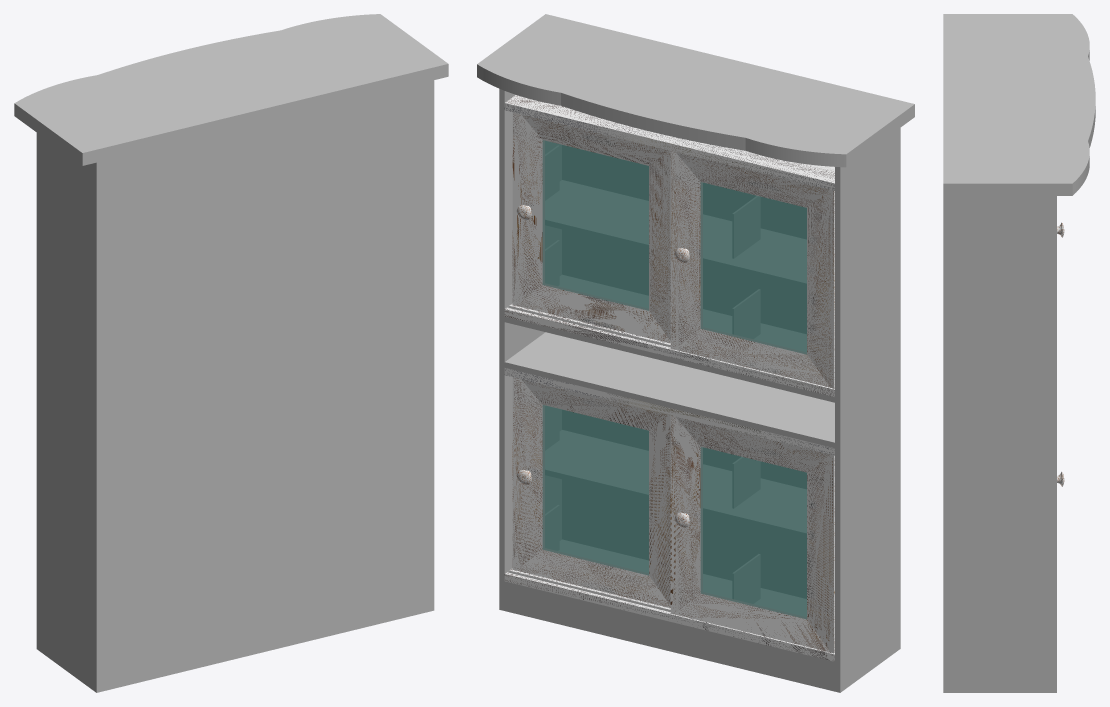
3 renders of one model, left to right at view 1: azimuth 30°, elevation 25°; view 2: azimuth 150°, elevation 25°; view 3: azimuth 270°, elevation 25°, orthographic. The views are drawn at different scales.
Visible parts, largest first — view 1: mesh23_mesh23-geometry; view 2: mesh23_mesh23-geometry, mesh1_mesh1-geometry; view 3: mesh23_mesh23-geometry.
Boxes of the visible parts, <box> form: mesh23_mesh23-geometry: <box>14,14,448,692</box>; mesh23_mesh23-geometry: <box>477,14,914,692</box>; mesh1_mesh1-geometry: <box>504,95,834,661</box>; mesh23_mesh23-geometry: <box>943,14,1095,692</box>.
Size of the model in its own units: 0.5629 by 0.7984 by 0.2138.
